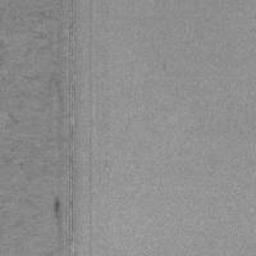Welding line: (68, 0, 77, 256)
